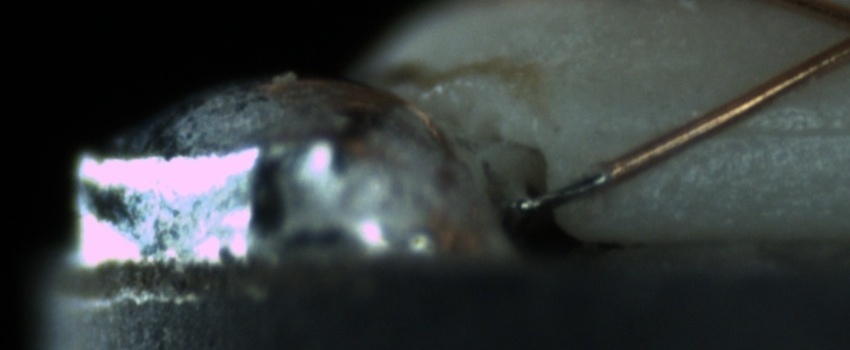CL: (830, 5, 850, 56)
DL: (682, 98, 844, 161)
TS: (514, 167, 613, 213)
TTCW: (512, 154, 638, 214)
